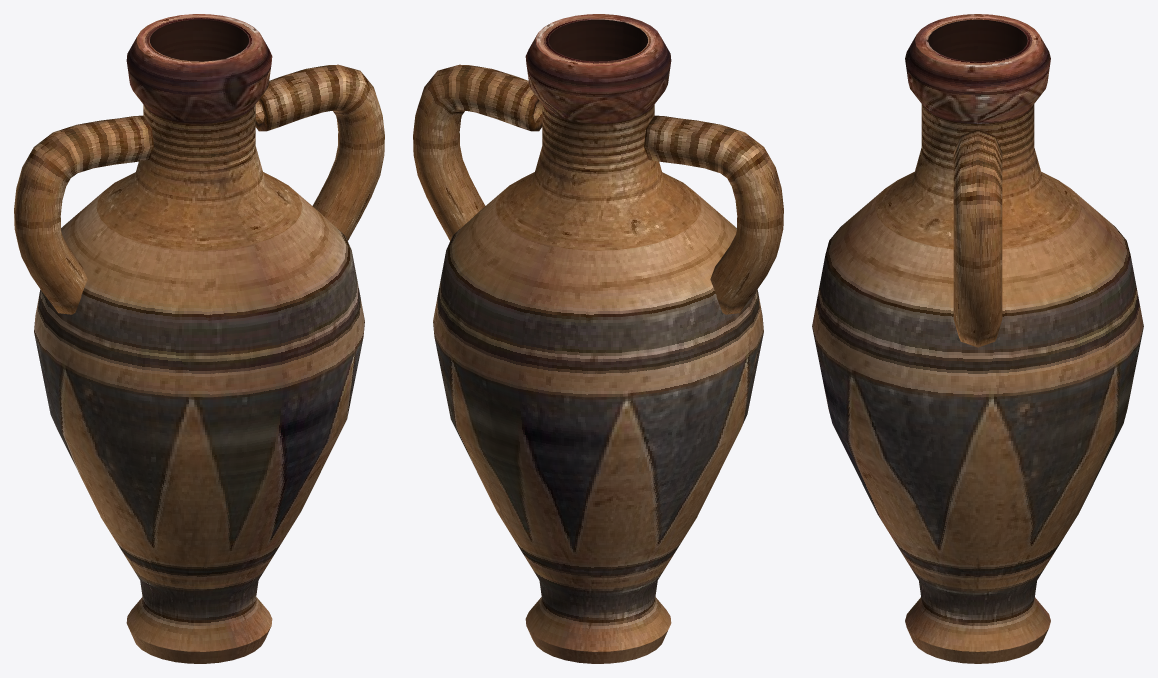
File: amphora.glb
The picture shows the model from 3 angles, left to right: view 1: azimuth 30°, elevation 25°; view 2: azimuth 150°, elevation 25°; view 3: azimuth 270°, elevation 25°; orthographic projection.
Visible parts, largest first — view 1: body, piece_11, piece_08, piece_12, piece_07, piece_01, piece_04, piece_06; view 2: body, piece_11, piece_08, piece_03, piece_10, piece_00, piece_04, piece_09, piece_12, piece_07; view 3: body, piece_08, piece_00, piece_02, piece_09, piece_07, piece_01, piece_12, piece_10.
Part boxes in pixels (x1,y1,x2,y2): body: (34, 14, 364, 663); piece_11: (14, 31, 155, 427); piece_08: (213, 15, 384, 384); piece_12: (85, 40, 249, 458); piece_07: (232, 41, 353, 454); piece_01: (188, 386, 351, 663); piece_04: (44, 384, 189, 663); piece_06: (102, 447, 236, 660); body: (433, 14, 763, 663); piece_11: (604, 60, 783, 434); piece_08: (413, 17, 572, 240); piece_03: (488, 399, 648, 661); piece_10: (483, 51, 649, 433); piece_00: (438, 357, 582, 662); piece_04: (625, 405, 747, 652); piece_09: (434, 58, 547, 397); piece_12: (605, 15, 763, 402); piece_07: (569, 14, 609, 61); body: (812, 14, 1143, 663); piece_08: (870, 57, 1031, 424); piece_00: (959, 365, 1134, 663); piece_02: (873, 417, 1019, 658); piece_09: (1015, 66, 1138, 412); piece_07: (812, 47, 948, 420); piece_01: (824, 390, 933, 647); piece_12: (828, 14, 1005, 242); piece_10: (1018, 25, 1143, 364).
Bounding box in the file's own units: 0.6111 × 0.95 × 0.48.
Materials: 1 (1 with a texture image).
